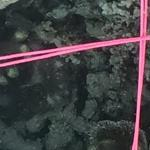dead: (4, 72, 129, 148)
